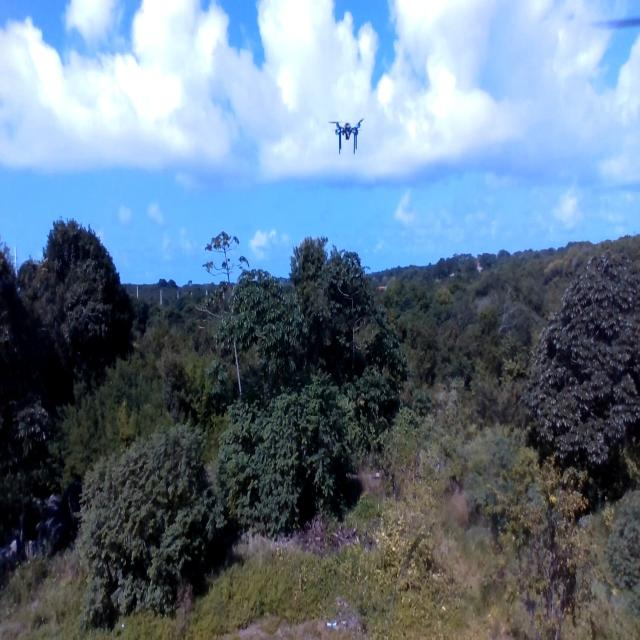-uav-: (328, 104, 369, 158)
